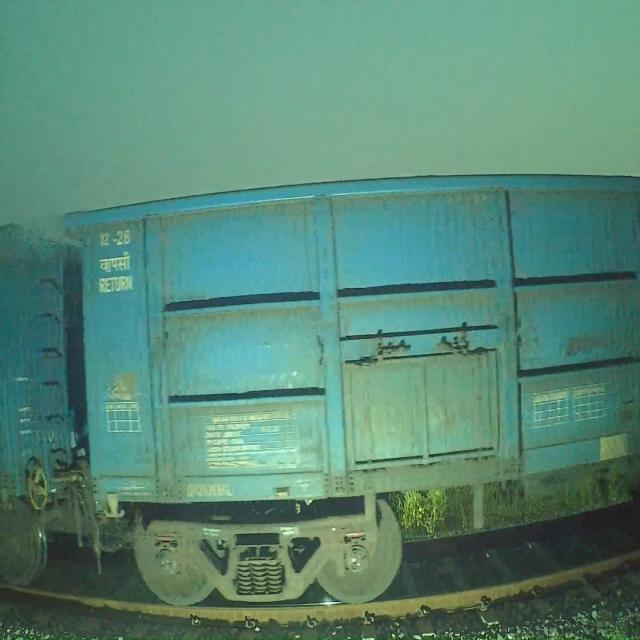WAgon-uic: (58, 166, 640, 611), (0, 215, 168, 590)
